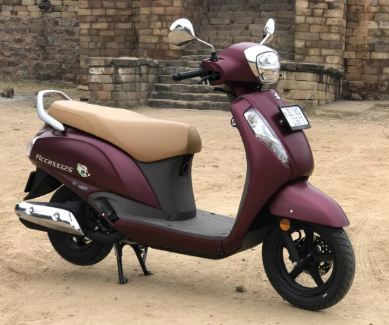bike: (14, 16, 354, 310)
